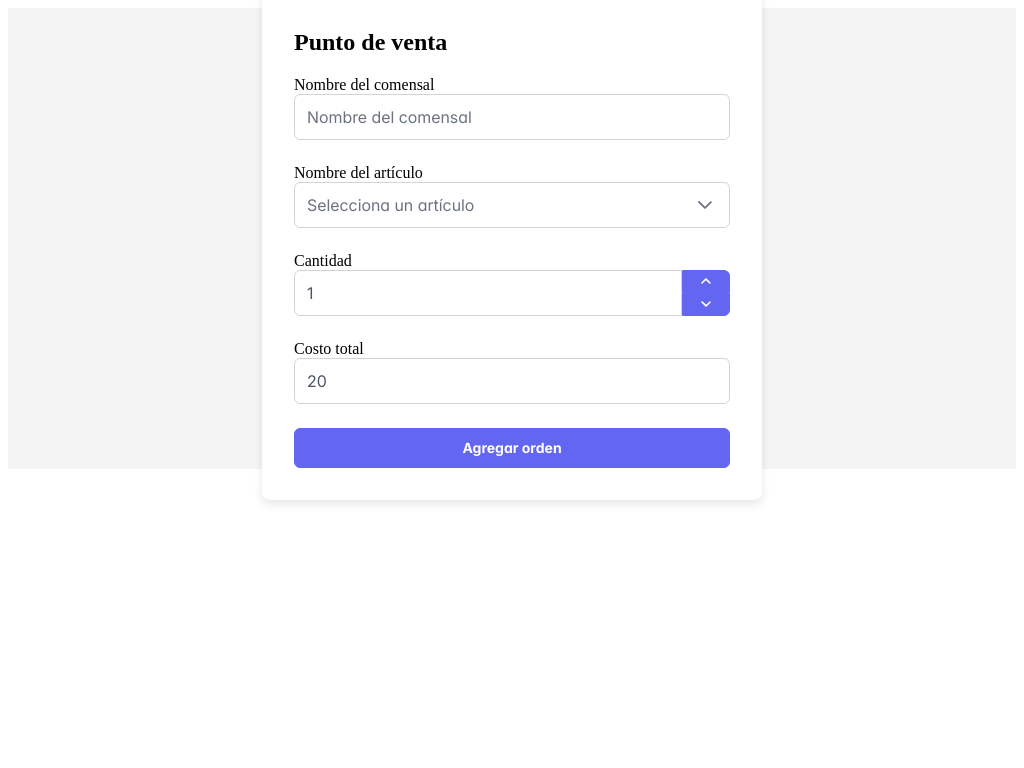
it: OrderForm › muestra errores si los campos obligatorios están vacíos
Click the button "Agregar orden": (512, 448) [294, 428, 730, 468]
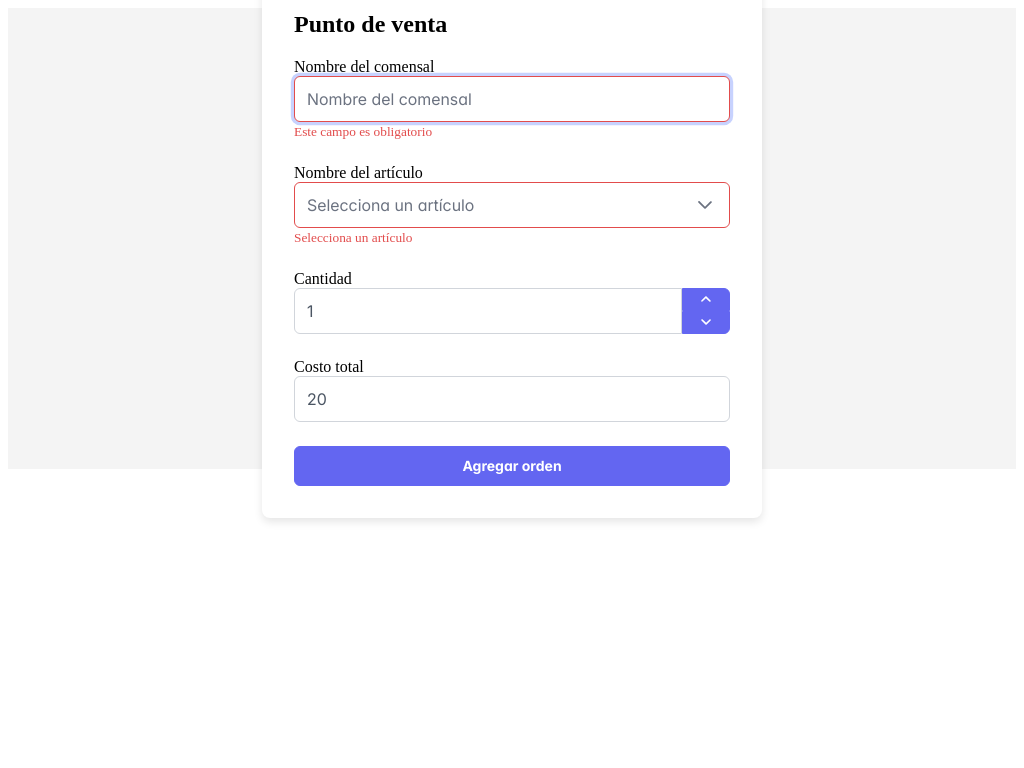
Expected: the text "Este campo es obligatorio" is shown, [294, 124, 432, 139]
